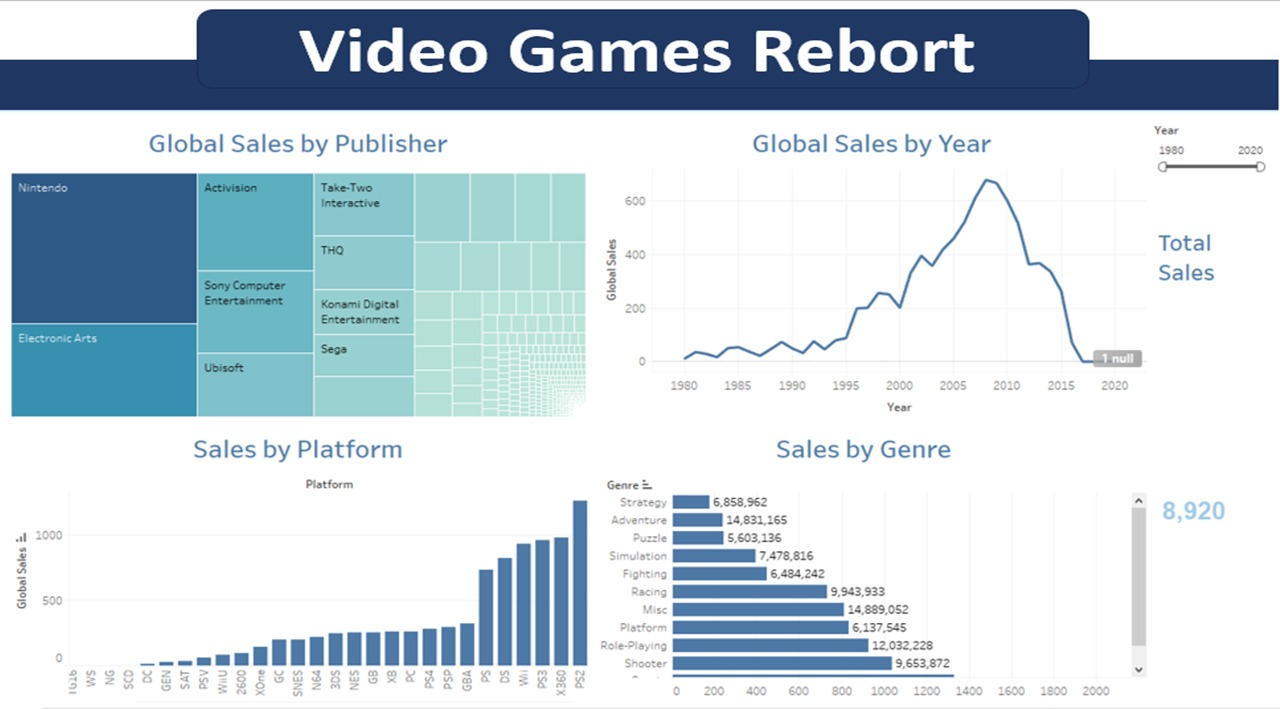

What the dashboard file says about the page in this screenshot:
{"tool":"tableau","page":{"name":"Video_Games_Dashboard ","canvas":[1000,1000],"units":"permille","ordinal":0},"visuals":[{"type":"worksheet","title":"Global Sales by Publisher","mark":"Automatic","box":[6.9,14.5,448.7,485.5]},{"type":"worksheet","title":"Global_Sales  by Year ","mark":"Automatic","rows":["Global_Sales"],"cols":["Year"],"box":[455.6,14.5,424.9,485.5]},{"type":"filter","title":"Global_Sales  by Year ","param":"[federated.05p99qo02qc6my1guyo531titnjk].[none:Year:qk]","box":[880.5,14.5,112.5,204.7]},{"type":"worksheet","title":"Total Sales","mark":"Automatic","box":[880.5,219.2,112.5,766.3]},{"type":"worksheet","title":"Global_Sales by Platform","mark":"Automatic","rows":["Global_Sales"],"cols":["Platform"],"box":[6.9,500,448.8,485.5]},{"type":"worksheet","title":"Global_Sales by Genre","mark":"Automatic","rows":["Genre"],"cols":["Global_Sales"],"box":[455.7,500,424.8,485.5]}]}

Visuals, with their boxes on the dashboard's canvas, which has no fixed pixel size, in thousandths of its width and height (x1, y1, x2, y2). These are canvas units, not pixel positions in the 1280x709 screenshot, which may show the page scaled, cropped or inside an application window:
"Global Sales by Publisher" worksheet: {"x1": 7, "y1": 14, "x2": 456, "y2": 500}
"Global_Sales  by Year " worksheet: {"x1": 456, "y1": 14, "x2": 880, "y2": 500}
"Global_Sales  by Year " filter: {"x1": 880, "y1": 14, "x2": 993, "y2": 219}
"Total Sales" worksheet: {"x1": 880, "y1": 219, "x2": 993, "y2": 986}
"Global_Sales by Platform" worksheet: {"x1": 7, "y1": 500, "x2": 456, "y2": 986}
"Global_Sales by Genre" worksheet: {"x1": 456, "y1": 500, "x2": 880, "y2": 986}
